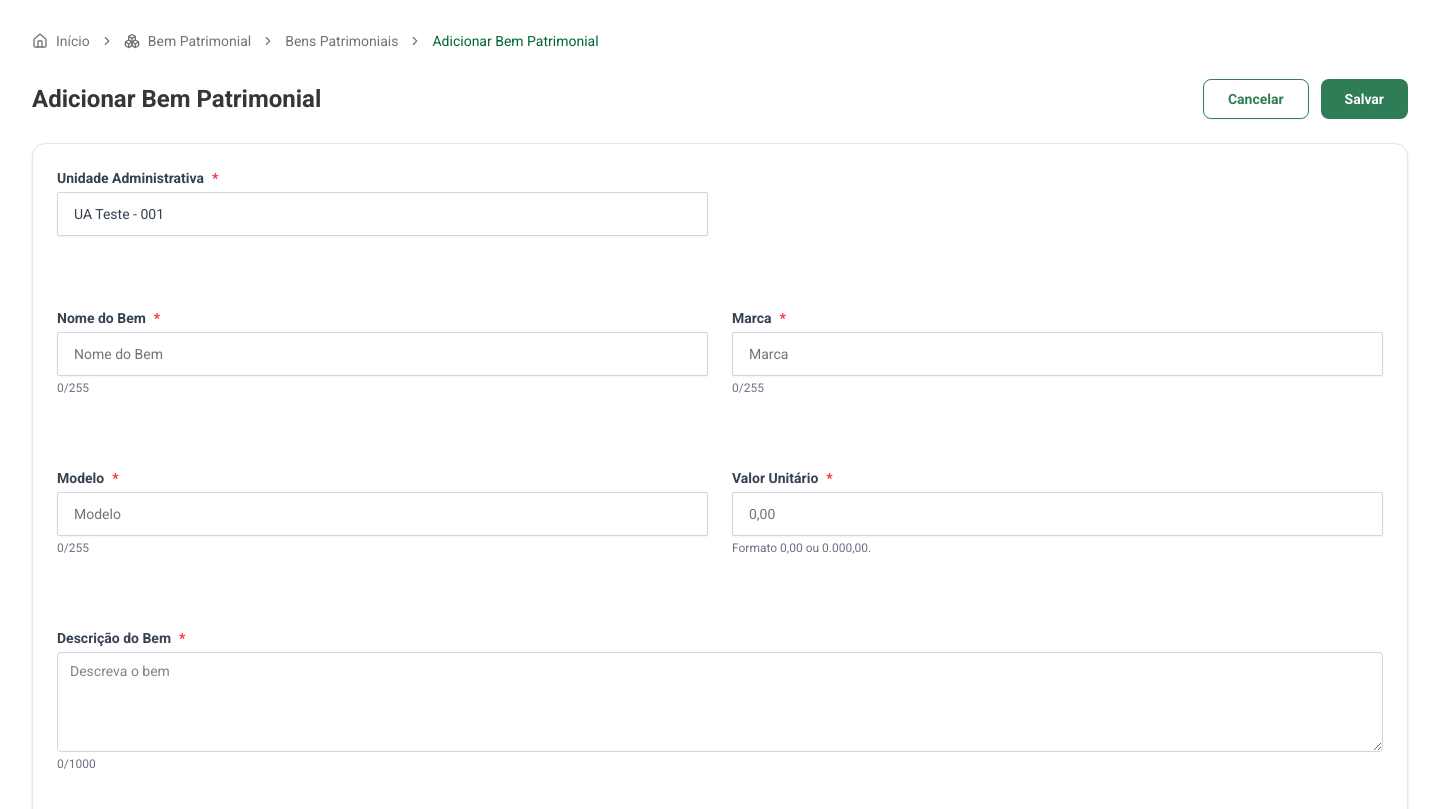
it: BemCreatePage › deve manter os demais erros ao corrigir somente um campo
Step 1. Click the button "Salvar" → click(1364, 99), box [1321,79,1408,119]
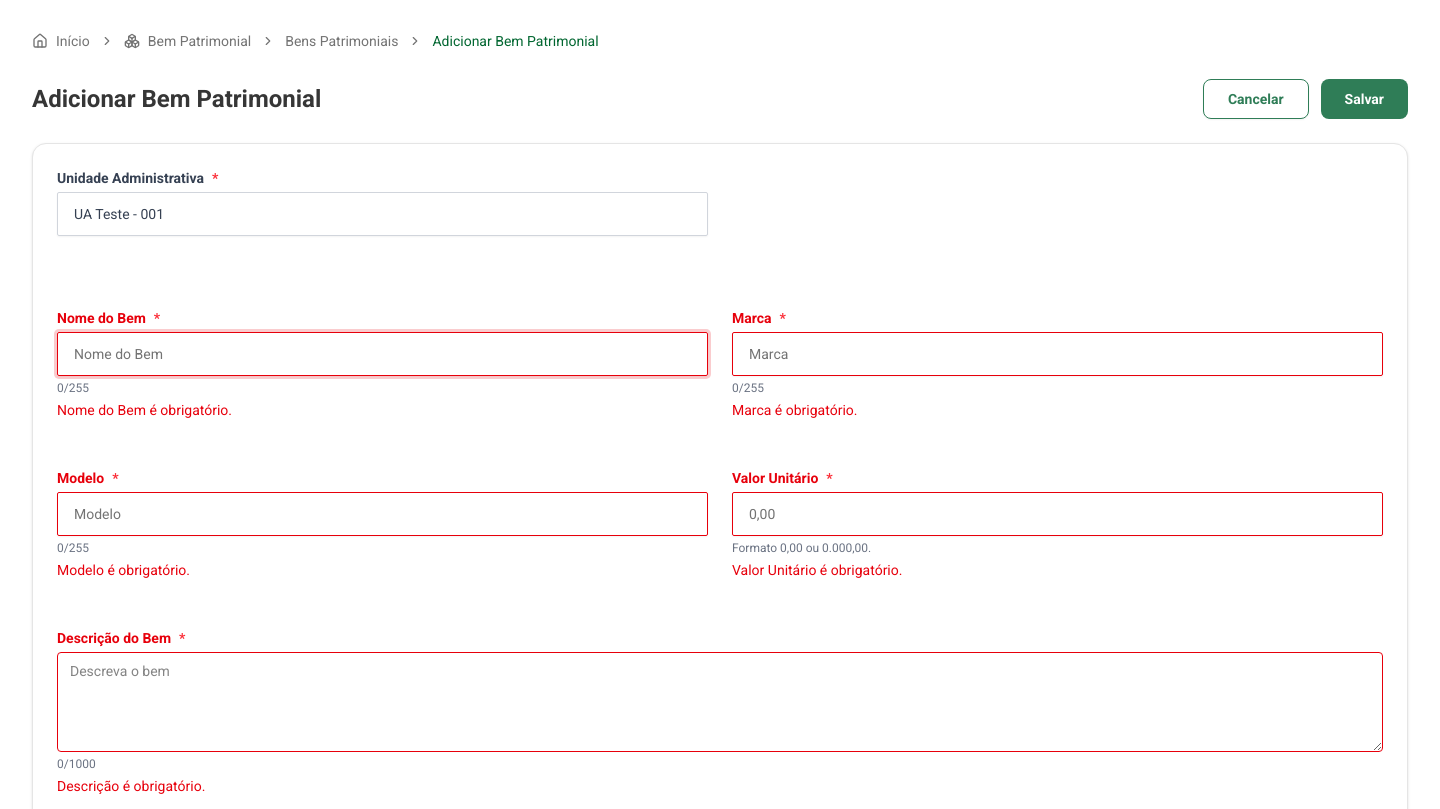
Result: the text "Nome do Bem é obrigatório." is shown at [57,402,232,418]
Step 2. Type "Notebook" into the field with placeholder "Nome do Bem" → (382, 354), box [57,332,708,376]
(page scrolled)
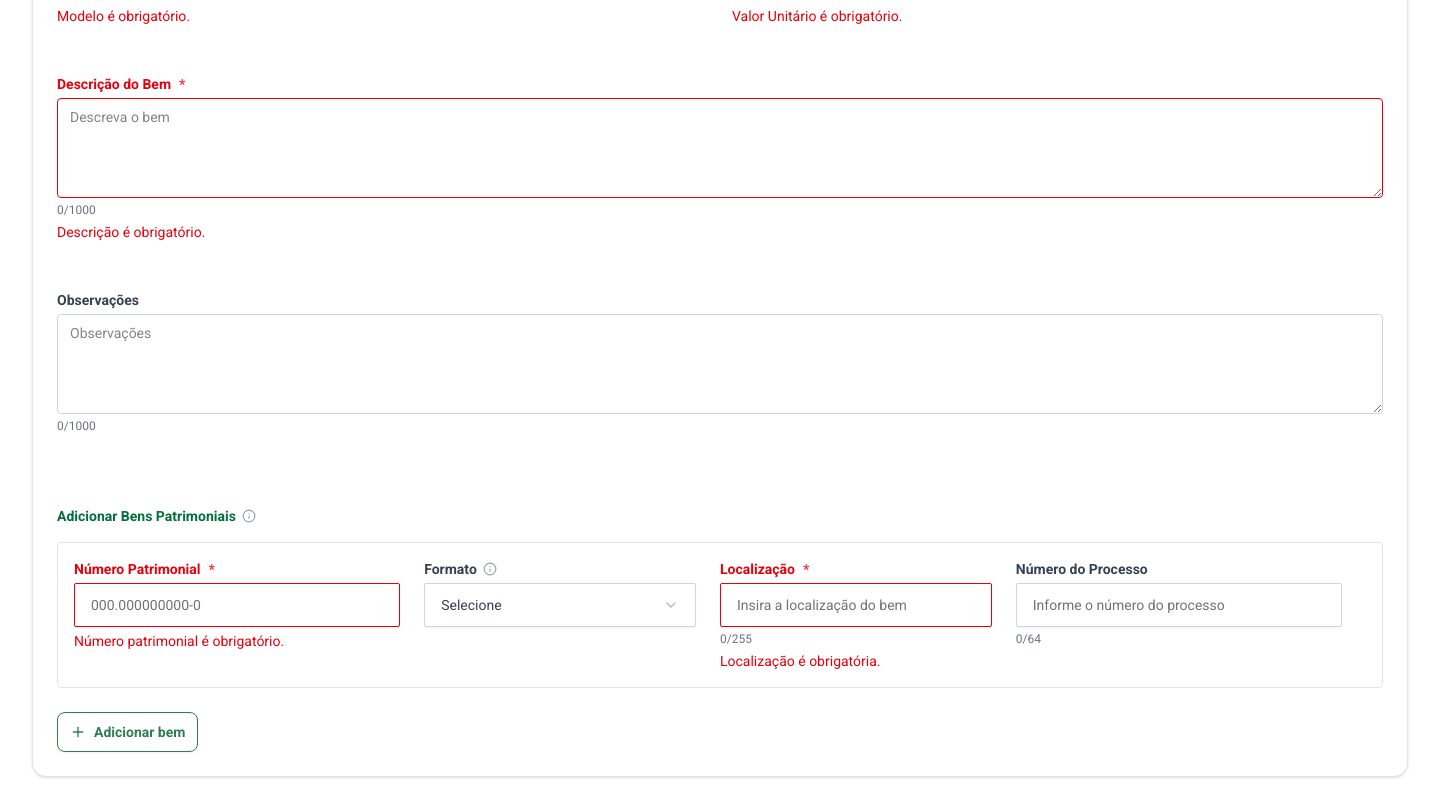
Result: the text "Modelo é obrigatório." is shown at [57,8,190,24]
Result: the text "Descrição é obrigatório." is shown at [57,224,205,240]
Result: the text "Nome do Bem é obrigatório." is gone
